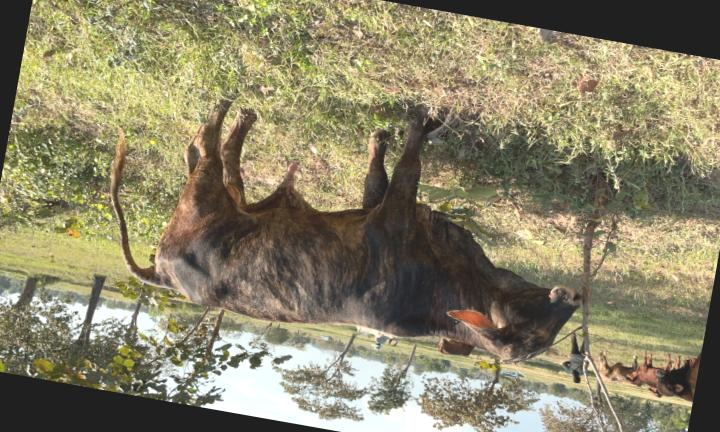Charolais: (111, 100, 581, 359)
